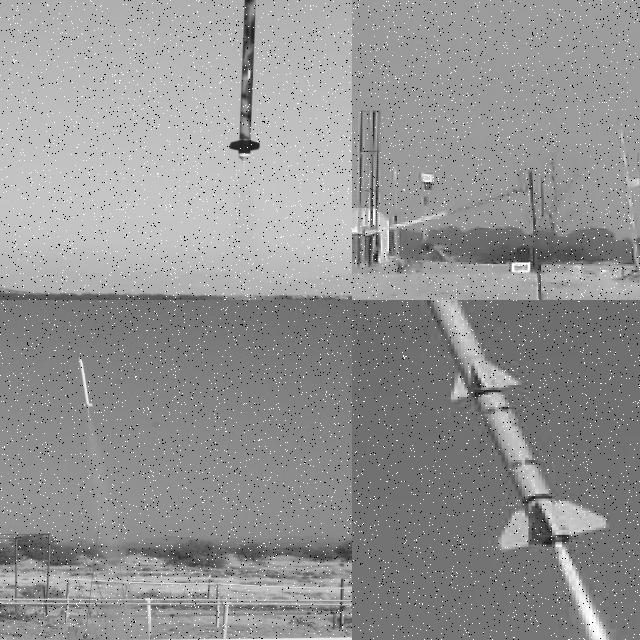Rocket: (381, 300, 615, 557), (228, 0, 261, 162), (78, 356, 94, 410), (634, 152, 640, 246)
